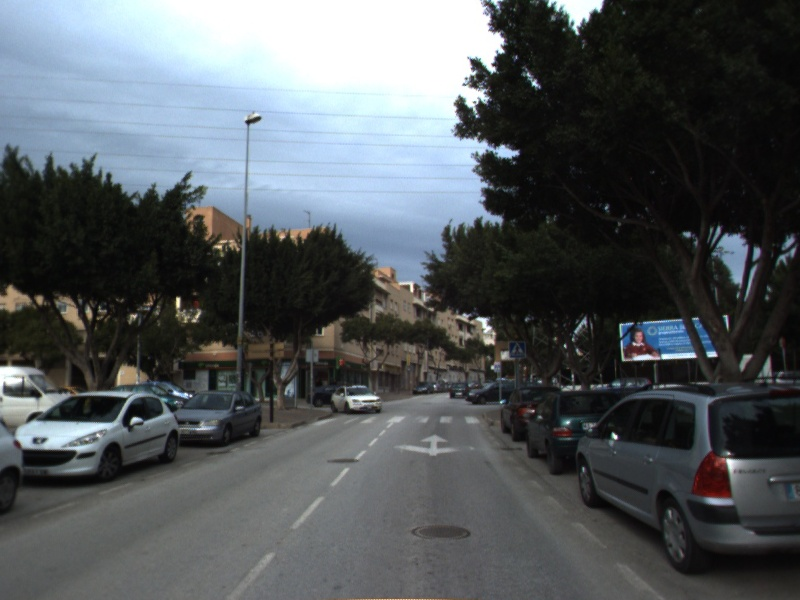STRAIGHT_LEFT_RIGHT: (391, 432, 478, 458)
